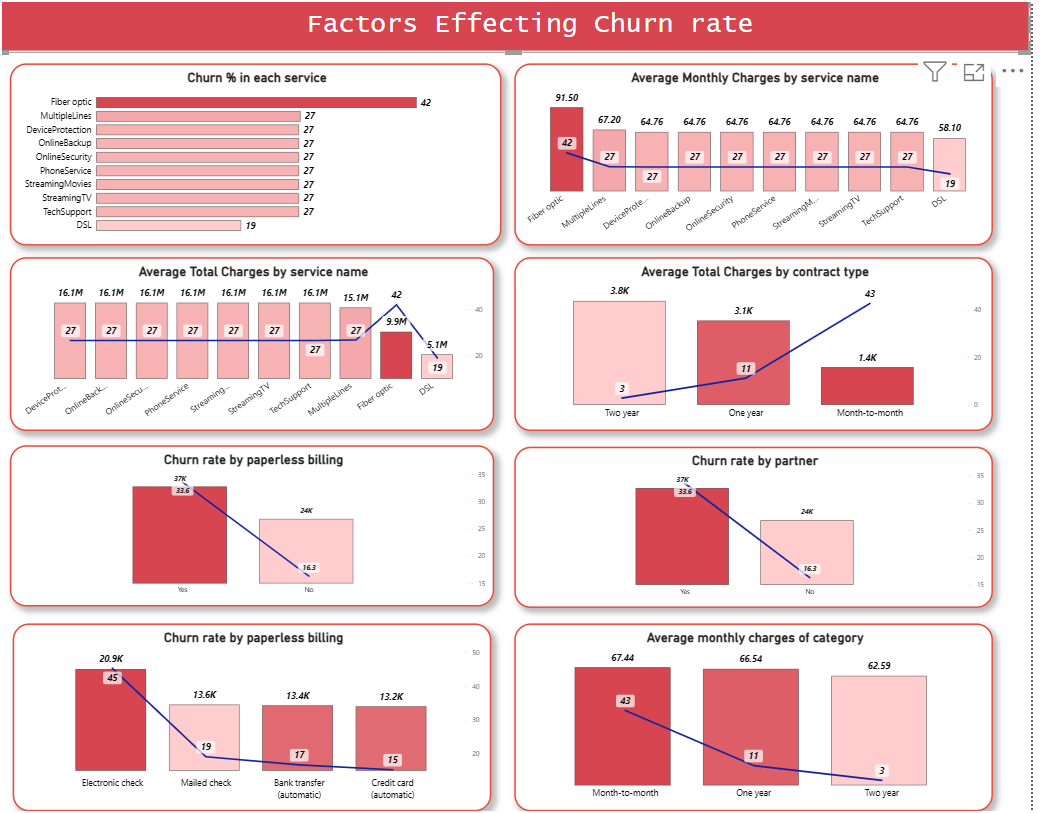

Layout of this report page (visuals, bound fields, positions):
{"tool":"powerbi","page":{"name":"Page 2","canvas":[1900,1500],"ordinal":1},"visuals":[{"type":"barChart","title":"Churn % in each service","fields":{"Y":["Measure.Churn Rate"],"Category":["churntable.service_name"]},"box":[23.6,125.7,903.1,335.1],"z":0},{"type":"lineStackedColumnComboChart","title":"Average Monthly Charges by service name","fields":{"Category":["churntable.service_name"],"Y":["Avg(churntable.MonthlyCharges)"],"Y2":["Measure.Churn Rate"]},"box":[950.2,125.7,879.6,335.1],"z":1},{"type":"lineStackedColumnComboChart","title":"Average Total Charges by service name","fields":{"Category":["churntable.service_name"],"Y2":["Measure.Churn Rate"],"Y":["Sum(churntable.TotalCharges)"]},"box":[23.6,481.7,890,319.4],"z":2},{"type":"lineStackedColumnComboChart","title":"Average Total Charges by contract type","fields":{"Category":["churntable.Contract"],"Y2":["Measure.Churn Rate"],"Y":["Avg(churntable.TotalCharges)"]},"box":[950.2,481.7,879.6,319.4],"z":3},{"type":"lineStackedColumnComboChart","title":"Churn rate by paperless billing","fields":{"Y2":["Measure.Churn Rate"],"Category":["churntable.PaperlessBilling"],"Y":["CountNonNull(churntable.PaperlessBilling)"]},"box":[23.6,827.2,890,295.8],"z":4},{"type":"lineStackedColumnComboChart","title":"Churn rate by partner","fields":{"Y2":["Measure.Churn Rate"],"Category":["churntable.PaperlessBilling"],"Y":["CountNonNull(churntable.Partner)"]},"box":[950.2,829.8,879.6,295.8],"z":5},{"type":"lineStackedColumnComboChart","title":"Churn rate by paperless billing","fields":{"Y2":["Measure.Churn Rate"],"Category":["churntable.PaymentMethod"],"Y":["CountNonNull(churntable.PaymentMethod)"]},"box":[28.8,1154.4,879.6,345.5],"z":6},{"type":"lineStackedColumnComboChart","title":"Average monthly charges of category","fields":{"Y2":["Measure.Churn Rate"],"Category":["churntable.Contract"],"Y":["Avg(churntable.MonthlyCharges)"]},"box":[950.2,1154.4,879.6,345.5],"z":7},{"type":"ScrollingTextVisual1448795304508","fields":{"Category":["Measure.Column"]},"box":[0,0,1900.5,107.3],"z":8}]}

Visuals, with their boxes in screenshot pixels (x1, y1, x2, y2), scaled from the page's 1900x1500 canvas onto the 1041x813 screenshot:
"Churn % in each service" barChart: 13/68/508/250
"Average Monthly Charges by service name" lineStackedColumnComboChart: 521/68/1003/250
"Average Total Charges by service name" lineStackedColumnComboChart: 13/261/501/434
"Average Total Charges by contract type" lineStackedColumnComboChart: 521/261/1003/434
"Churn rate by paperless billing" lineStackedColumnComboChart: 13/448/501/609
"Churn rate by partner" lineStackedColumnComboChart: 521/450/1003/610
"Churn rate by paperless billing" lineStackedColumnComboChart: 16/626/498/812
"Average monthly charges of category" lineStackedColumnComboChart: 521/626/1003/812
ScrollingTextVisual1448795304508 - Measure.Column: 0/0/1040/58
